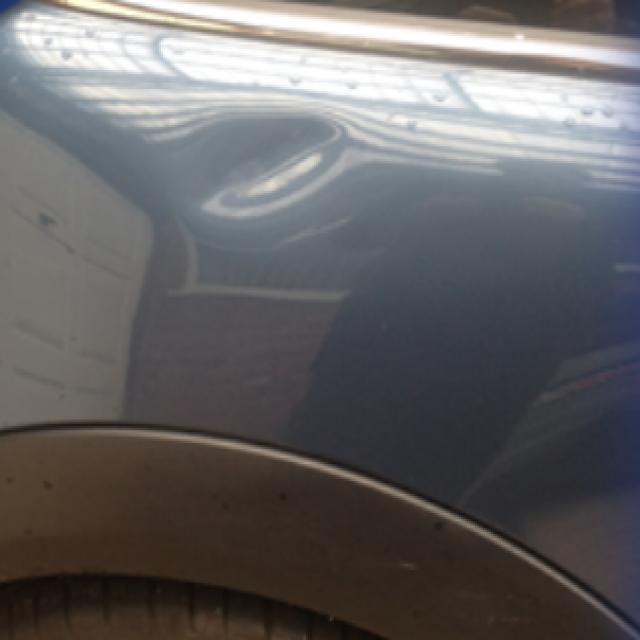dents: (184, 84, 405, 306)
